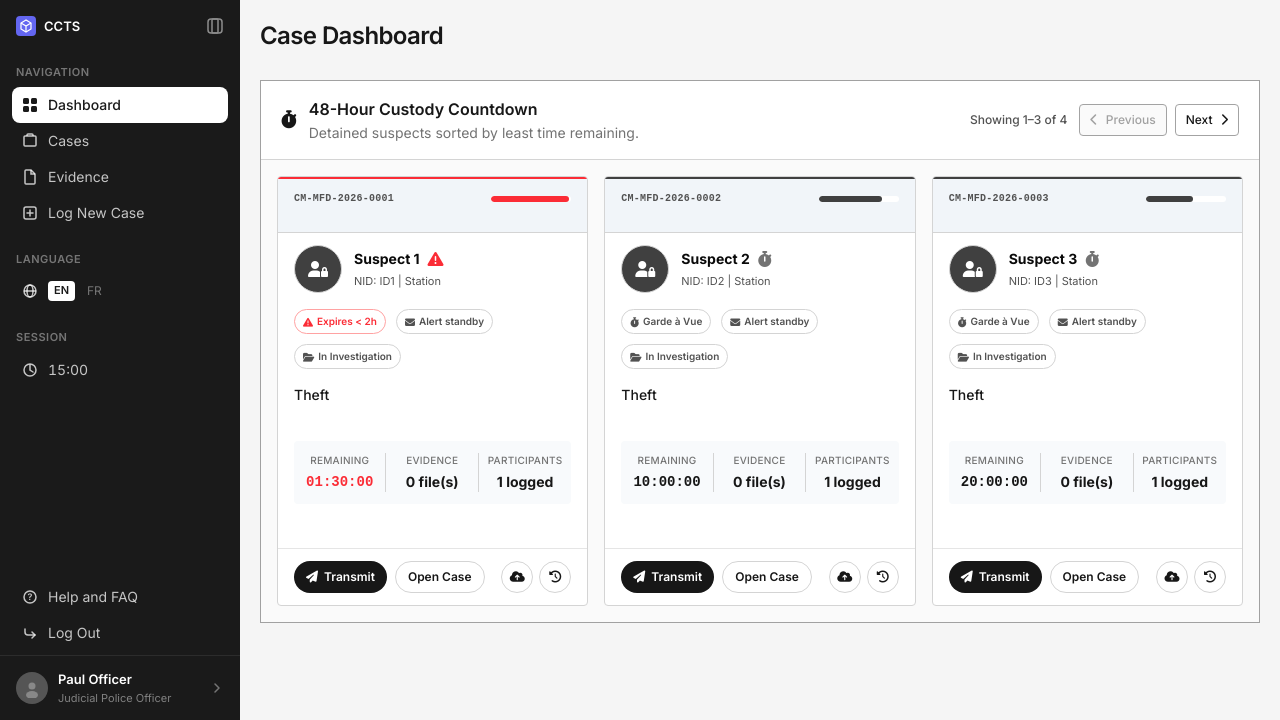
Test case: P1 dashboard › a custody card still opens the quick upload dialog
What coordinates should you click on to do the following:
click the button named "Quick evidence upload: CM-MFD-2026-0001"
I would click on:
 (517, 577)
Its box is x1=501 y1=561 x2=533 y2=593.
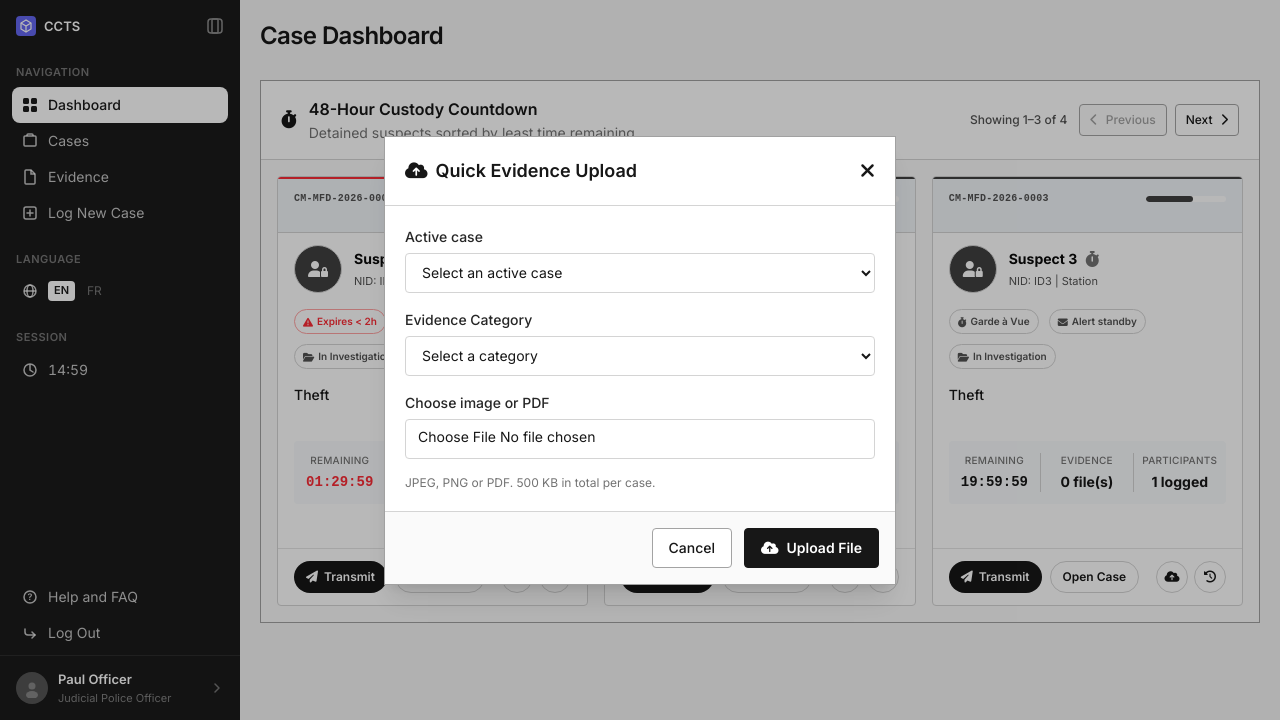
Expected: the dialog is shown, x1=384 y1=136 x2=896 y2=584
